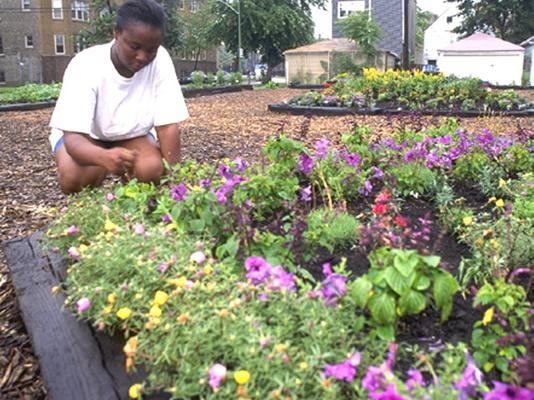person: (47, 1, 190, 193)
